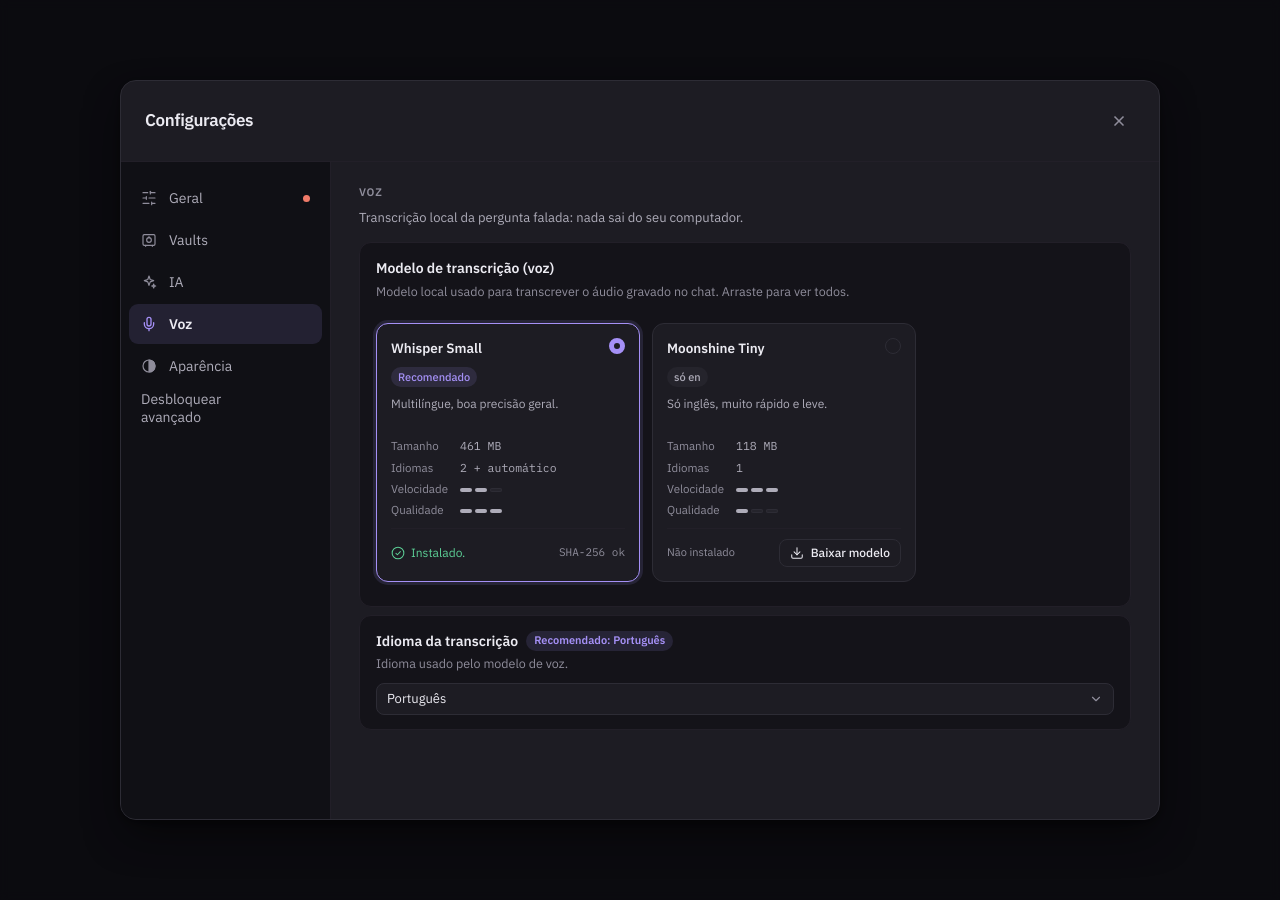
Test: SettingsModal › baixa modelo de voz nao instalado e reflete progresso ate completed
expect the element named "Modelo de transcrição (voz)" is shown: met, box left=376, top=322, right=916, bottom=582
Click the radio button labelled "Moonshine Tiny".
click(784, 452)  # box left=652, top=322, right=916, bottom=582
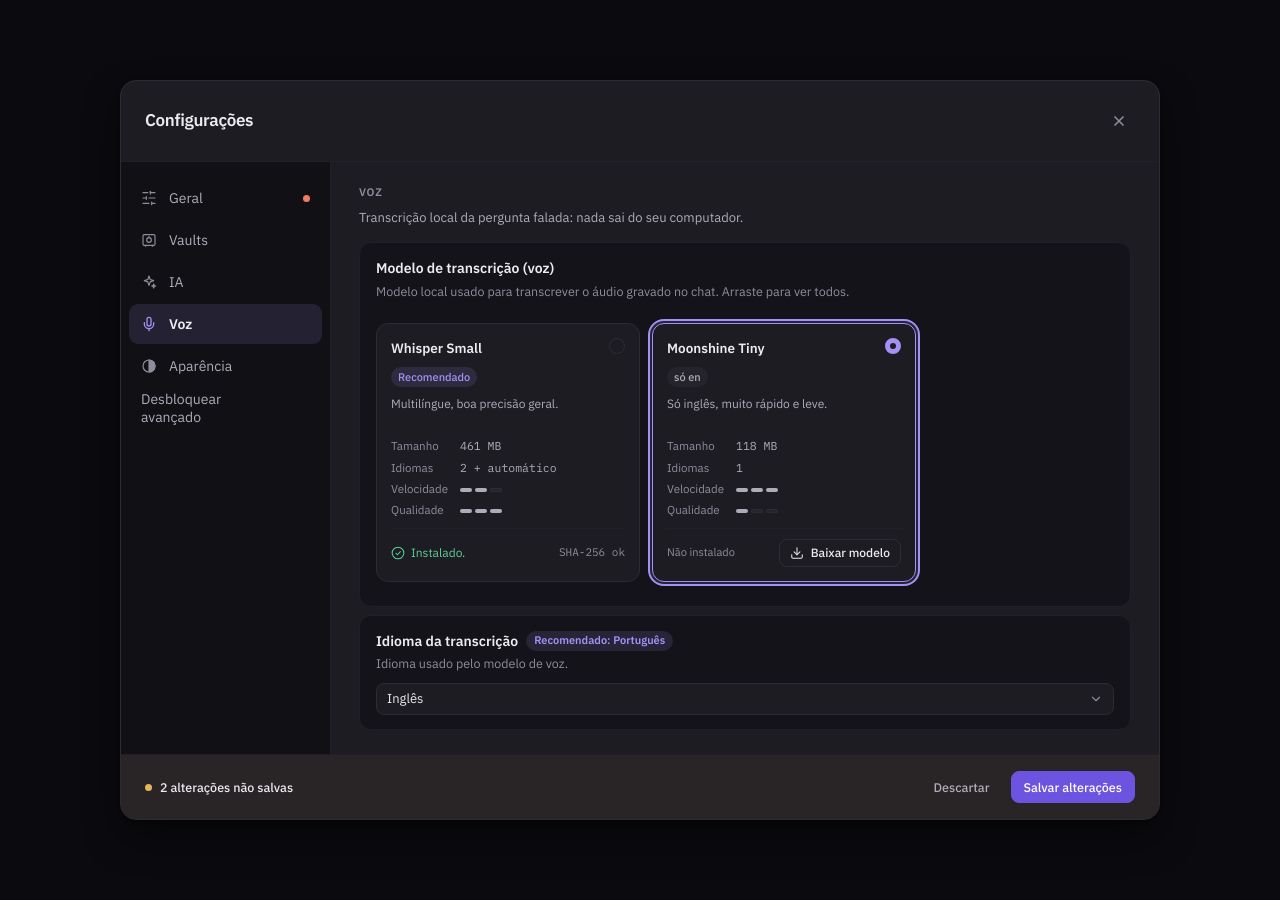
Click the button "Baixar modelo".
click(840, 553)  # box left=779, top=539, right=901, bottom=567
Wait 1500 ms
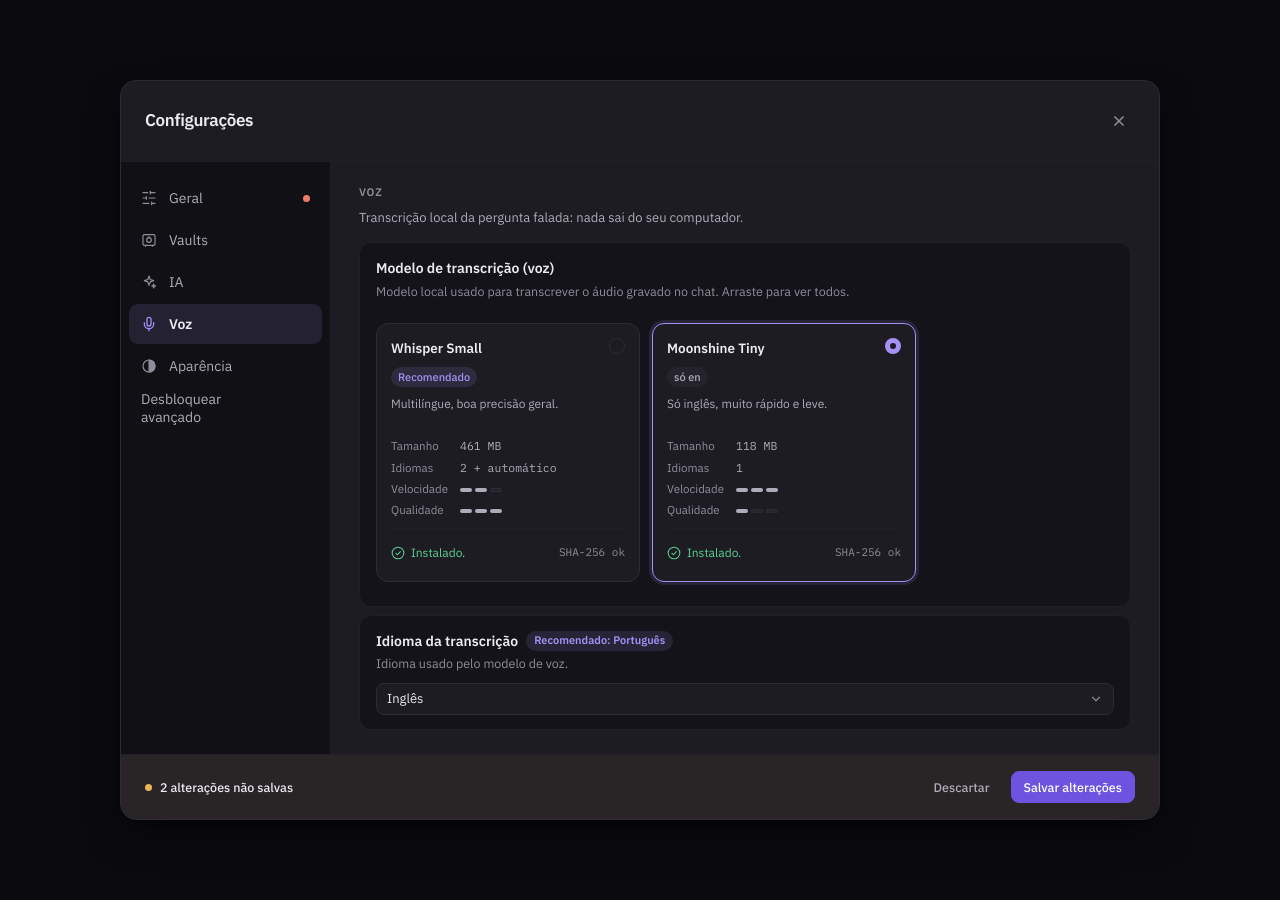
expect the text "Instalado." below "118" is shown: met, box left=687, top=545, right=741, bottom=560
